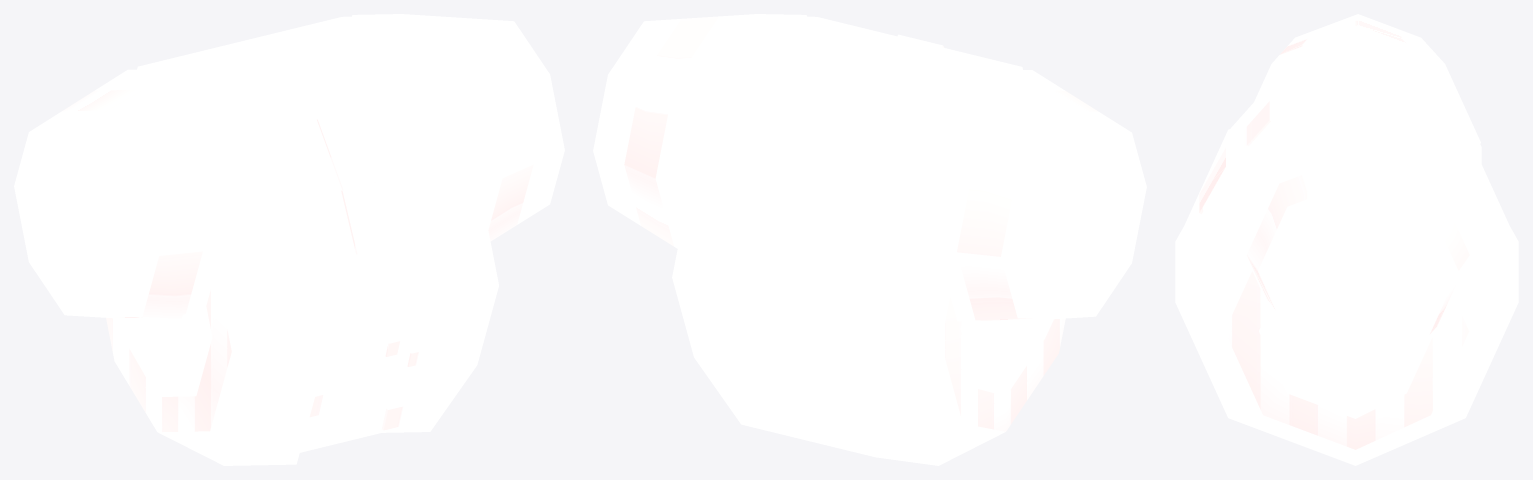
The model's file is Body_V2.gltf.
The picture shows the model from 3 angles, left to right: view 1: azimuth 30°, elevation 25°; view 2: azimuth 150°, elevation 25°; view 3: azimuth 270°, elevation 25°; orthographic projection. The views are drawn at different scales.
Visible parts, largest first — view 1: M_02_V5_Body_Mid, M2_Body_top; view 2: M_02_V5_Body_Mid, M2_Body_top; view 3: M_02_V5_Body_Mid, M2_Body_top.
Part boxes in pixels (x1=…): M_02_V5_Body_Mid: x1=14, y1=14, x2=564, y2=318; M2_Body_top: x1=106, y1=155, x2=498, y2=465; M_02_V5_Body_Mid: x1=593, y1=14, x2=1146, y2=321; M2_Body_top: x1=672, y1=173, x2=1065, y2=465; M_02_V5_Body_Mid: x1=1225, y1=14, x2=1481, y2=367; M2_Body_top: x1=1175, y1=129, x2=1518, y2=465.
Bounding box in the file's own units: 33.05 × 28.64 × 24.87.
5 materials, 2 textured.
